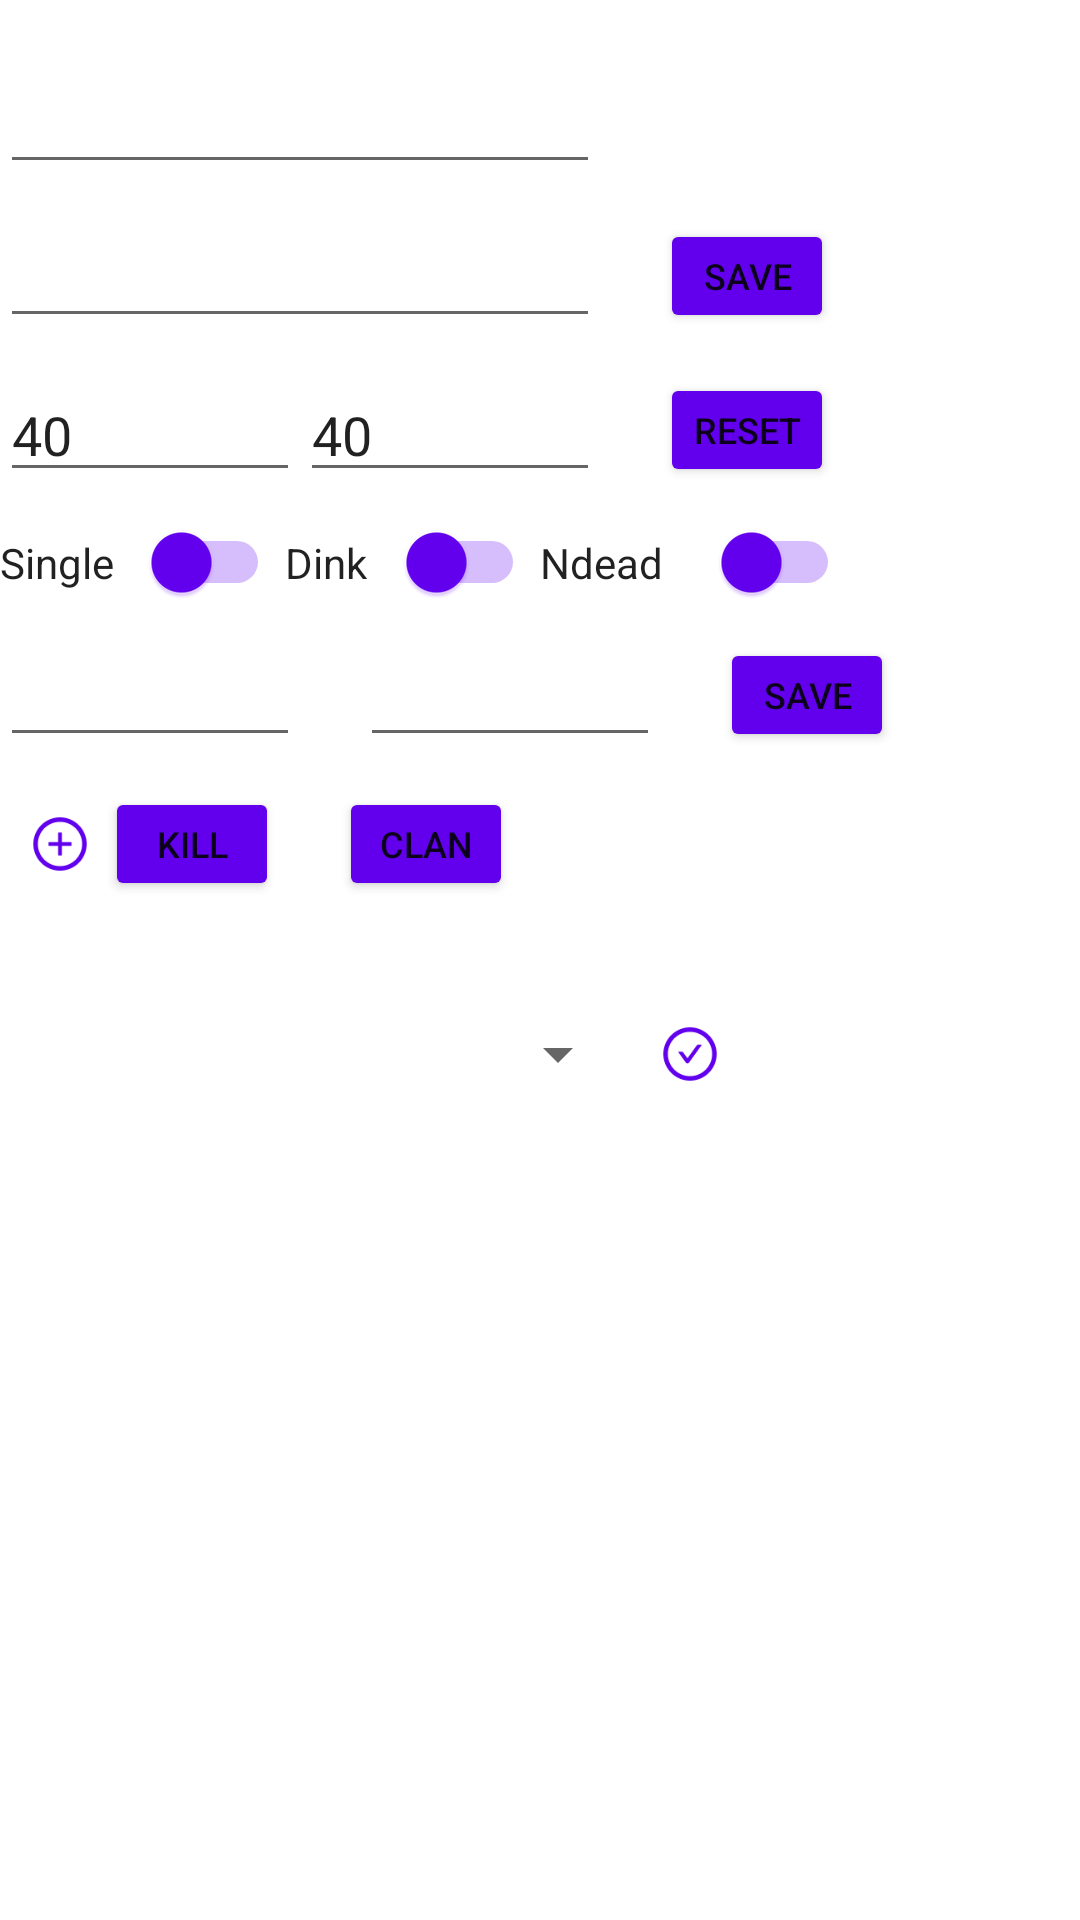

Locate icon controls on the screen. Image size 1080*1920, boxes as (x1, y1, x2, y2).
add: (33, 817, 87, 871)
done: (663, 1027, 717, 1081)
